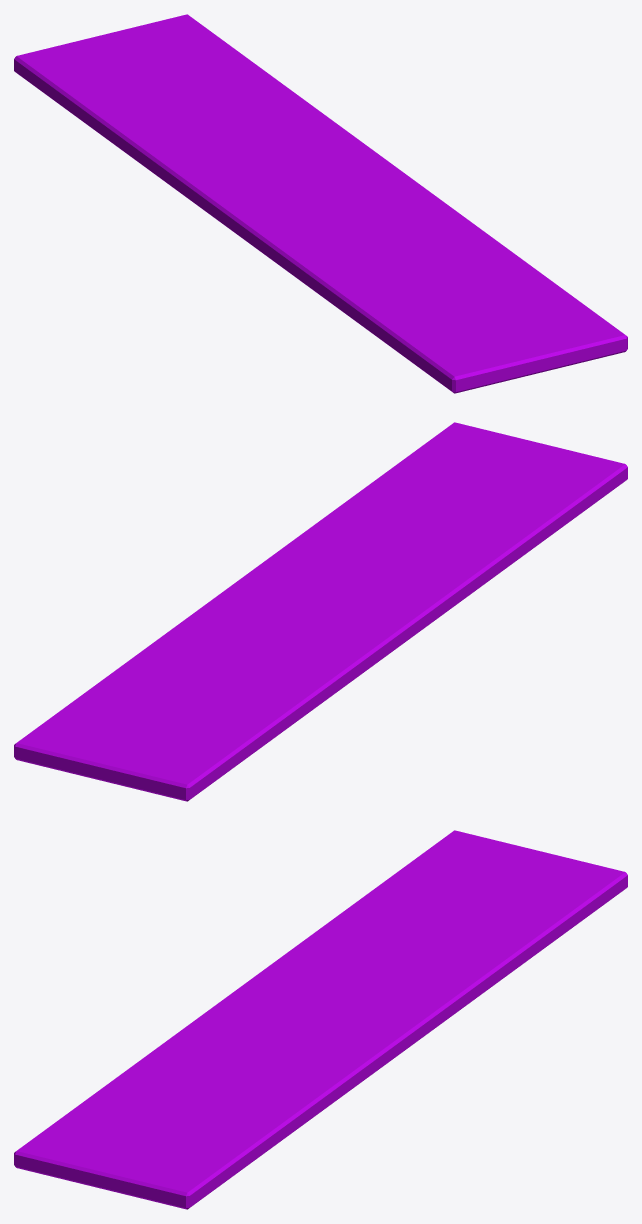
The model's file is Board_02.fbx.
3 renders of one model, top to bottom at view 1: azimuth 30°, elevation 25°; view 2: azimuth 150°, elevation 25°; view 3: azimuth 330°, elevation 25°, orthographic.
Visible parts, largest first — view 1: Board_02; view 2: Board_02; view 3: Board_02.
Part boxes in pixels (x1,y1,x2,y2): Board_02: (14, 14, 627, 393); Board_02: (14, 422, 627, 801); Board_02: (14, 830, 627, 1209).
Size of the model in its own units: 82.47 by 7.62 by 358.
